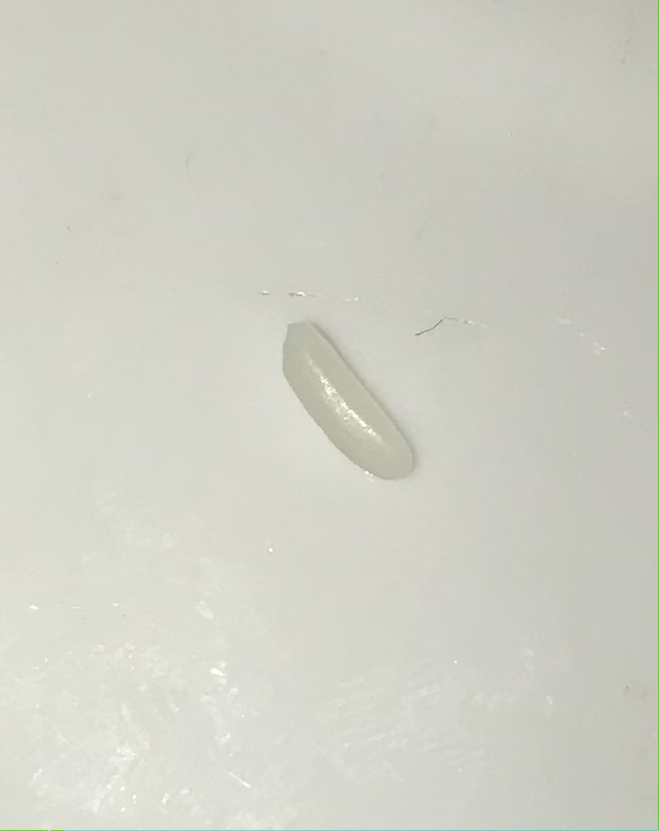Gao Ngoc Troi: (277, 305, 421, 494)
